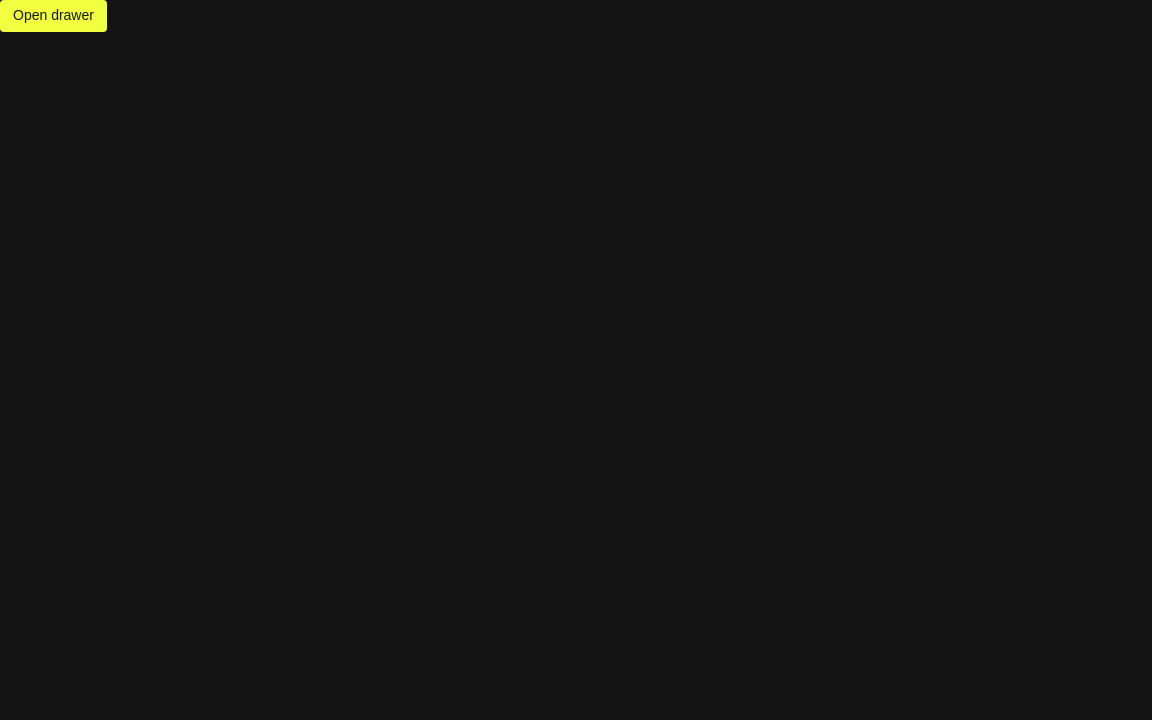
Test: makes a drawer dismissible through its explicit close control
Click the button "Open drawer": (53, 16) left=0, top=0, right=107, bottom=32
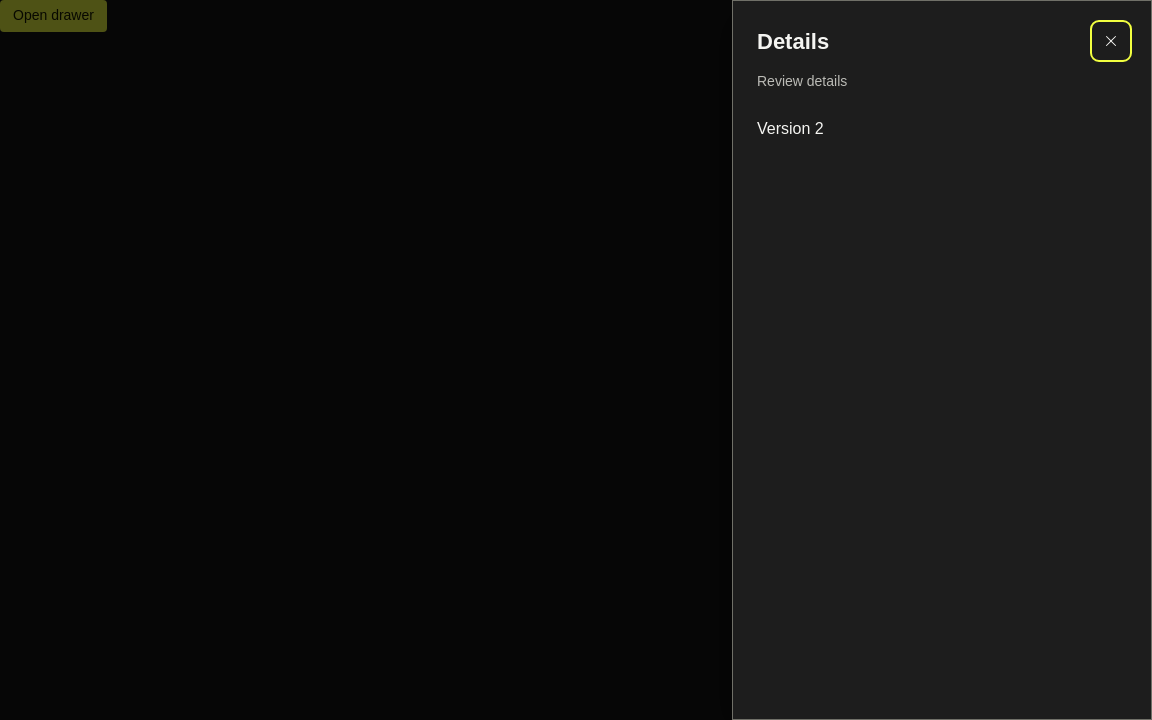
Now the dialog "Details" is shown, box left=732, top=0, right=1151, bottom=719
Click the button named "Close drawer": (1111, 41) left=1095, top=25, right=1127, bottom=57
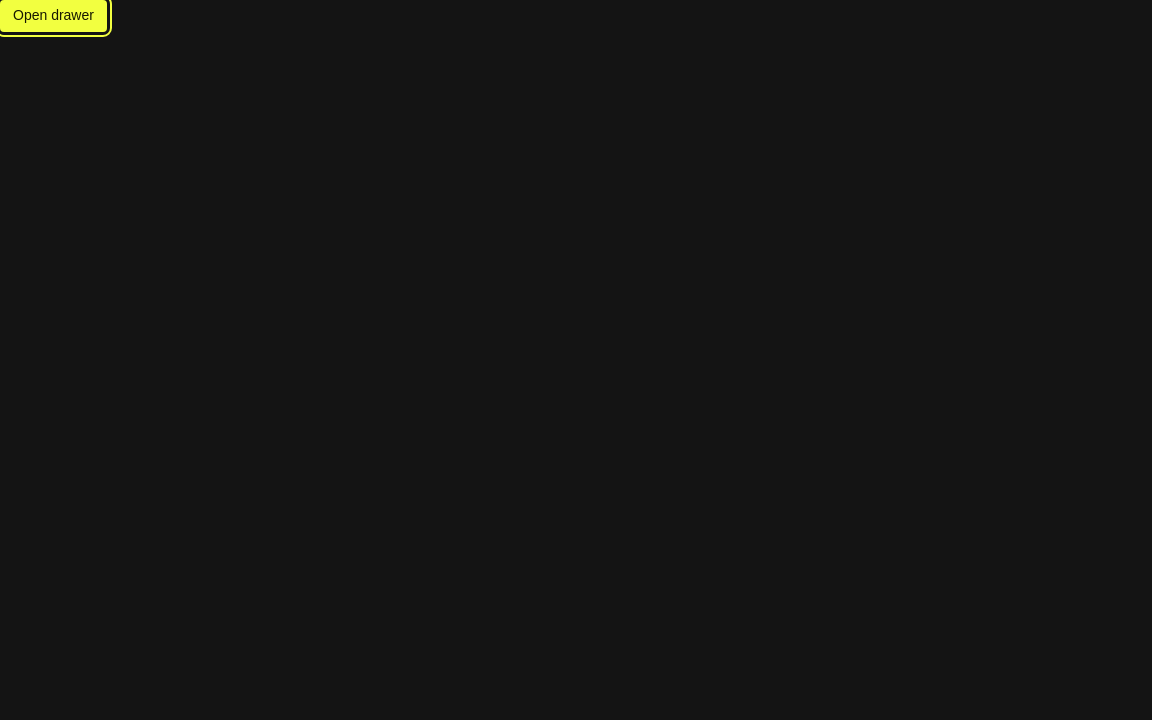
Now the dialog is gone
